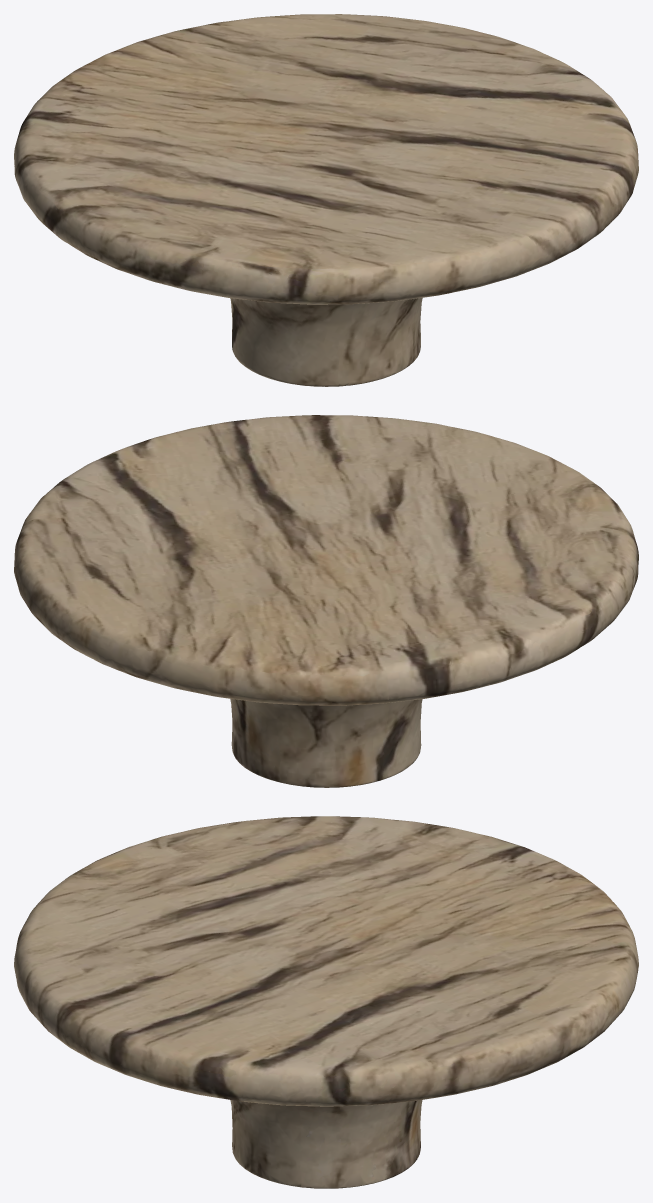
File: nA6XWB2yjAvluJKNjNktS.glb
3 views of the same model, one above another, from view 1: azimuth 30°, elevation 25°; view 2: azimuth 150°, elevation 25°; view 3: azimuth 270°, elevation 25° (orthographic).
Parts seen in each view (by area): view 1: geometry_0; view 2: geometry_0; view 3: geometry_0.
Boxes of the visible parts, <box> form: geometry_0: <box>14,14,638,386</box>; geometry_0: <box>14,415,638,787</box>; geometry_0: <box>14,816,638,1188</box>.
Size of the model in its own units: 1 by 0.3879 by 1.
1 material, 1 textured.
